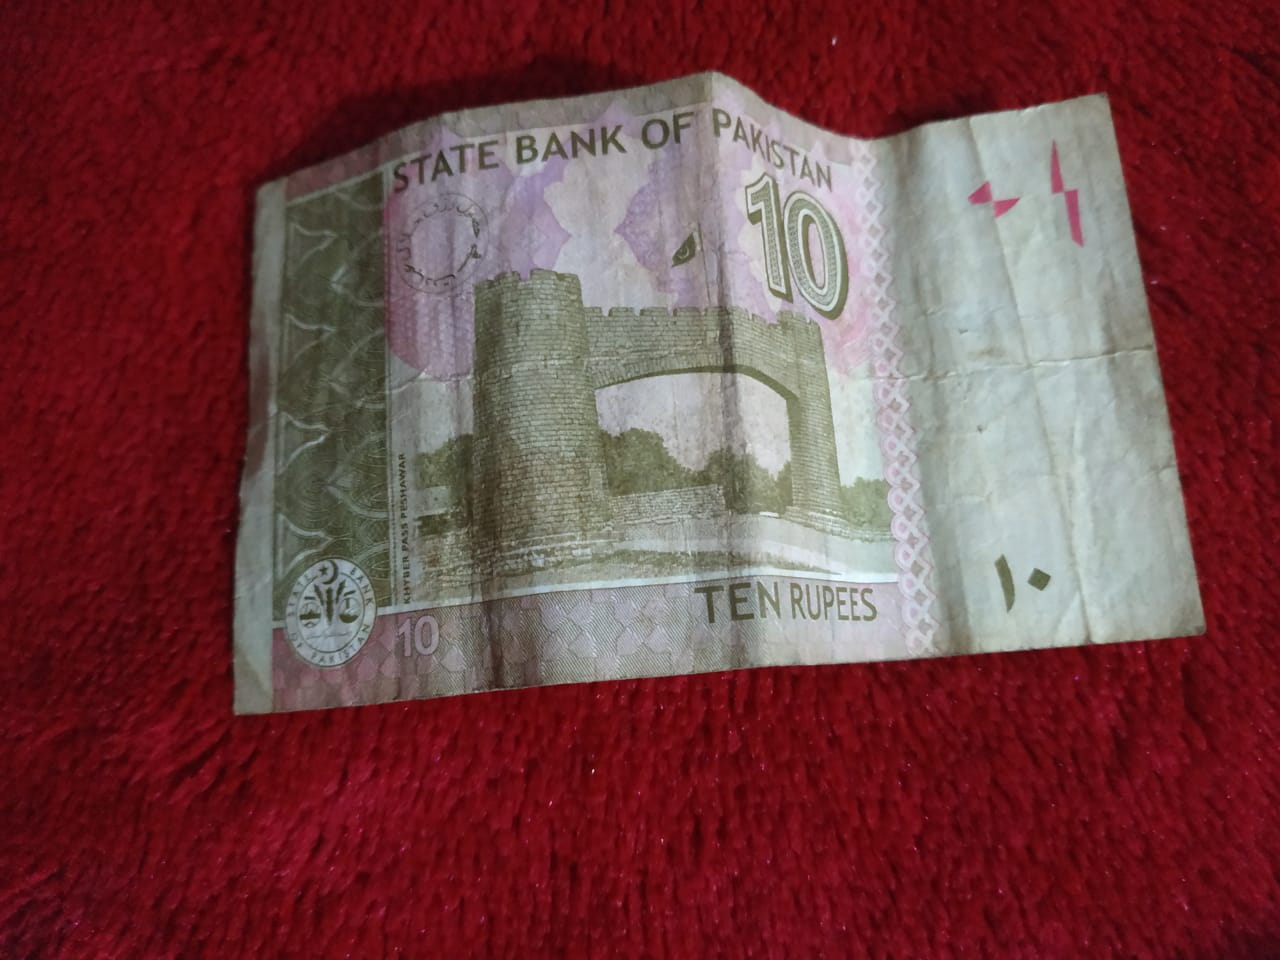10 rupee: (234, 74, 1215, 705)
